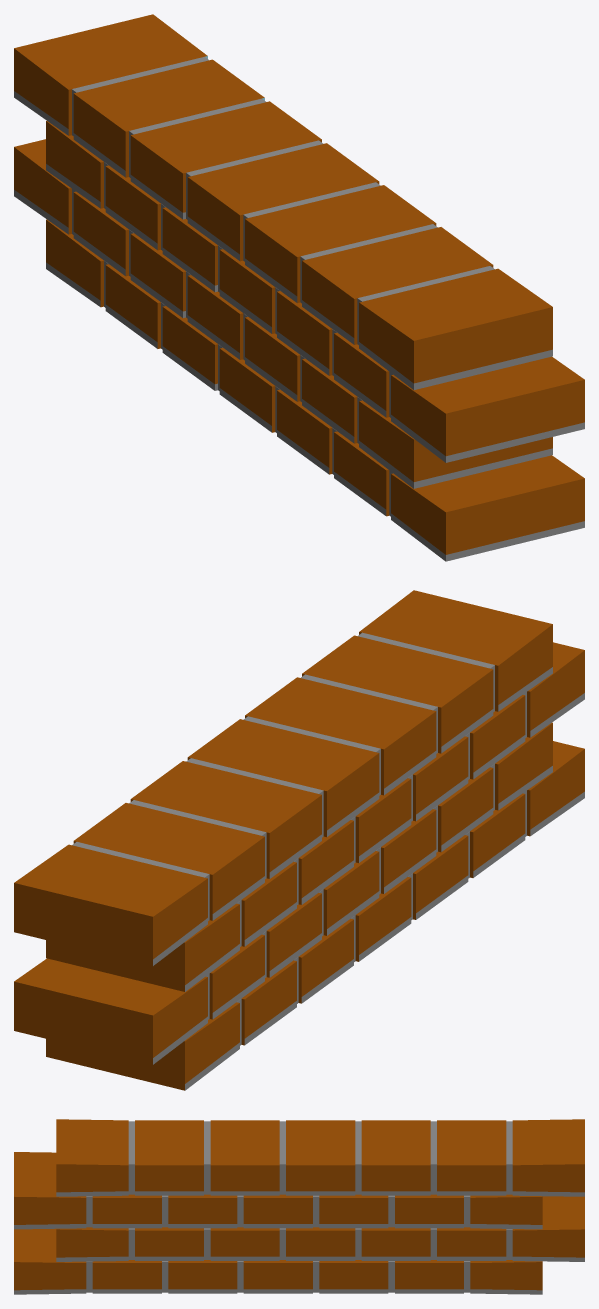
File: obstaculoBAJO.fbx
The picture shows the model from 3 angles, top to bottom: view 1: azimuth 30°, elevation 25°; view 2: azimuth 150°, elevation 25°; view 3: azimuth 270°, elevation 25°; orthographic projection. The views are drawn at different scales.
Visible parts, largest first — view 1: Cube.002; view 2: Cube.002; view 3: Cube.002.
Boxes of the visible parts, bbox=[...] form: Cube.002: bbox=[14, 14, 584, 561]; Cube.002: bbox=[14, 590, 584, 1090]; Cube.002: bbox=[14, 1119, 584, 1294].
Size of the model in its own units: 40.18 by 54.47 by 216.
Materials: 1 (1 with a texture image).
